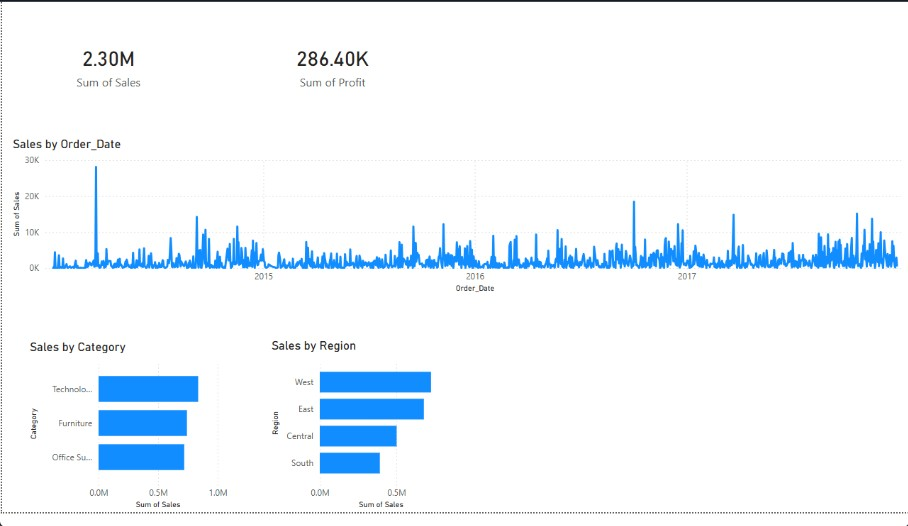

What the dashboard file says about the page in this screenshot:
{"tool":"powerbi","page":{"name":"Page 1","canvas":[1280,720],"ordinal":0},"visuals":[{"type":"card","fields":{"Values":["Sum(cleaned_sales.Sales)"]},"box":[10,0,280,178],"z":0},{"type":"card","fields":{"Values":["Sum(cleaned_sales.Profit)"]},"box":[326,0,280,178],"z":1000},{"type":"lineChart","title":"Sales Trend Over Time","fields":{"Y":["Sum(cleaned_sales.Sales)"],"Category":["cleaned_sales.Order_Date"]},"box":[10,191,1270,224],"z":2000},{"type":"clusteredBarChart","title":"Sales by Category","fields":{"Category":["cleaned_sales.Category"],"Y":["Sum(cleaned_sales.Sales)"]},"box":[34,477,289,243],"z":2001},{"type":"clusteredBarChart","title":"Sales by Region","fields":{"Category":["cleaned_sales.Region"],"Y":["Sum(cleaned_sales.Sales)"]},"box":[375,475,265,245],"z":2002}]}

Visuals, with their boxes in screenshot pixels (x1, y1, x2, y2), scaled from the page's 1280x720 canvas onto the 908x526 screenshot:
card - Sum(cleaned_sales.Sales): (7,0,206,130)
card - Sum(cleaned_sales.Profit): (231,0,430,130)
"Sales Trend Over Time" lineChart: (7,140,907,303)
"Sales by Category" clusteredBarChart: (24,348,229,525)
"Sales by Region" clusteredBarChart: (266,347,454,525)
